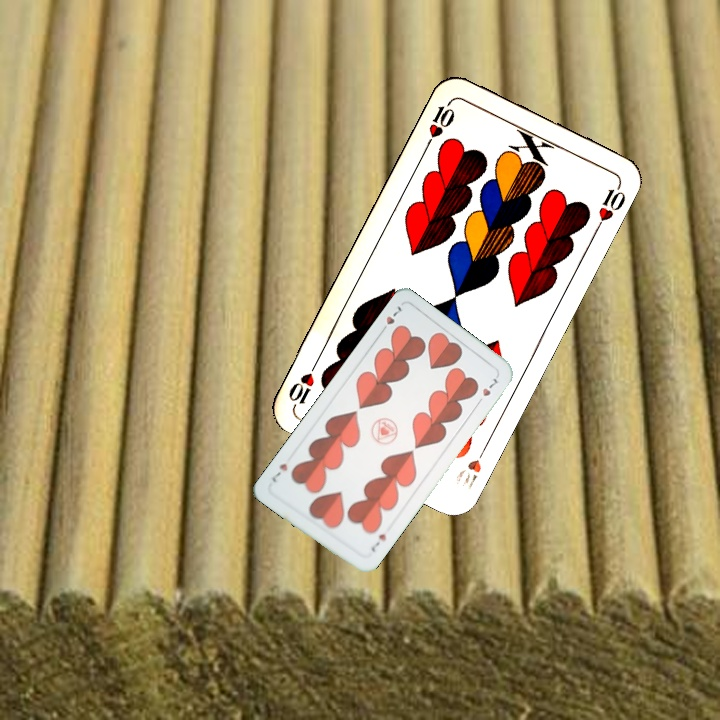H10: (422, 95, 458, 150), (460, 440, 491, 491)
H7: (376, 301, 404, 336), (366, 530, 389, 555)
